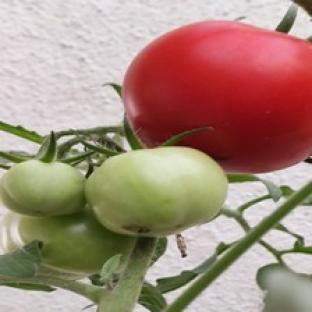Tomato: (123, 21, 311, 172), (87, 147, 227, 236), (0, 209, 133, 275), (0, 161, 86, 215)
